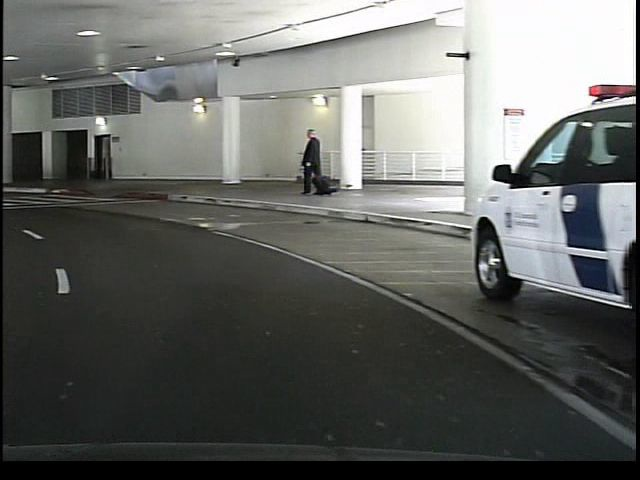person: (293, 127, 330, 203)
